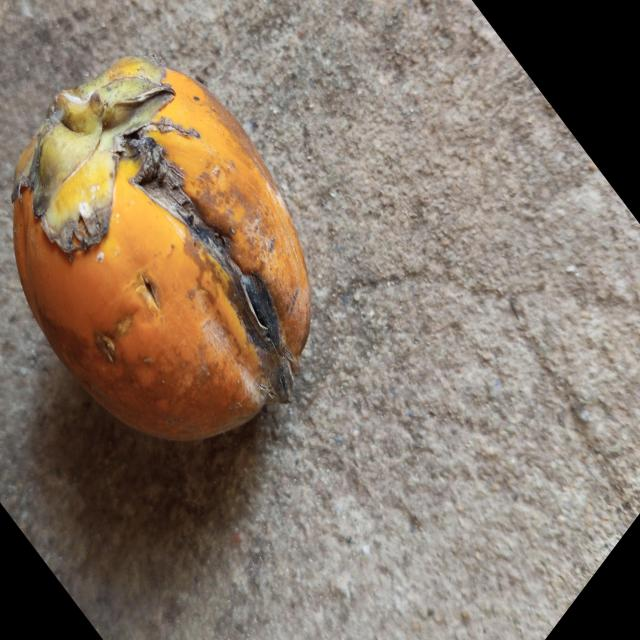damaged: (12, 57, 310, 440)
